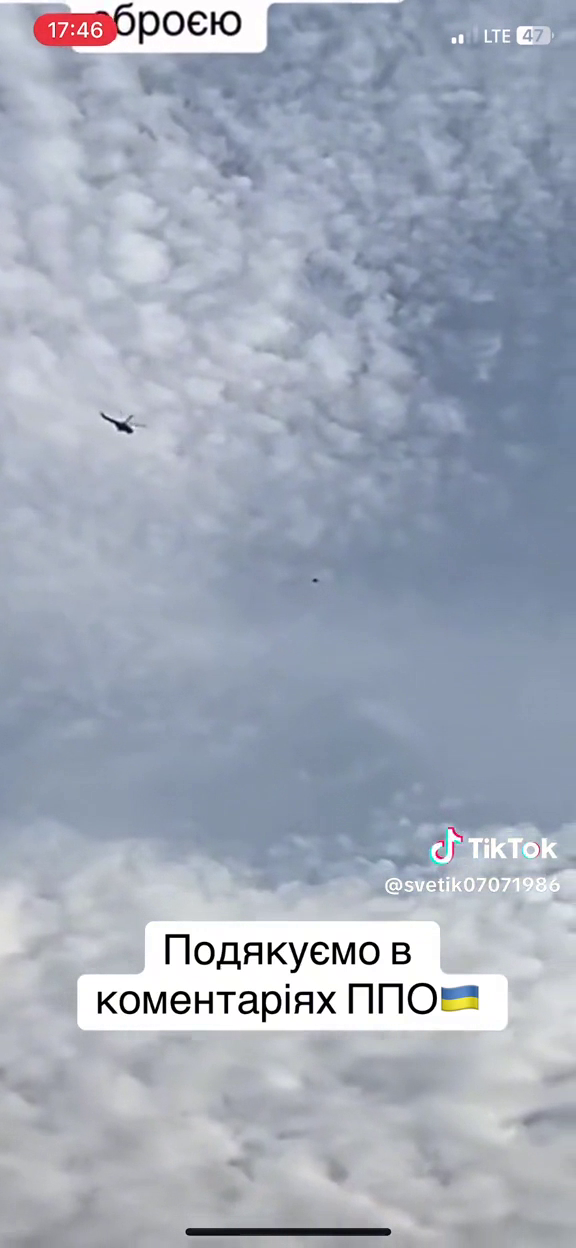not_drone: (96, 405, 150, 439)
